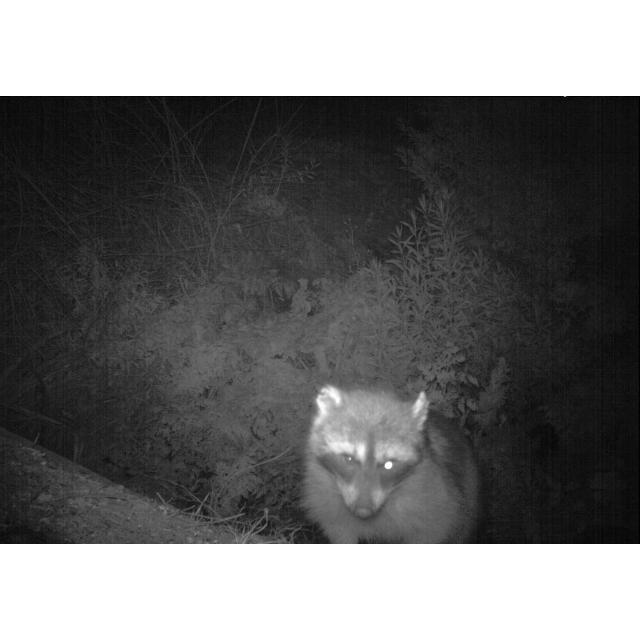animals: (302, 378, 482, 544)
